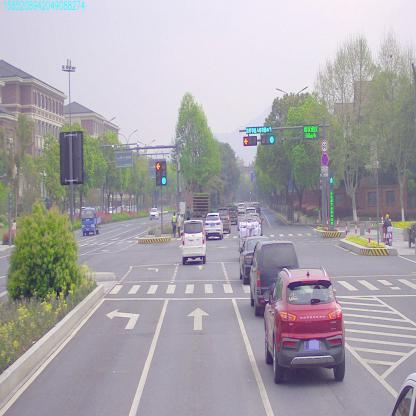traffic-light: (246, 126, 272, 132), (242, 136, 257, 145), (262, 133, 275, 143)
